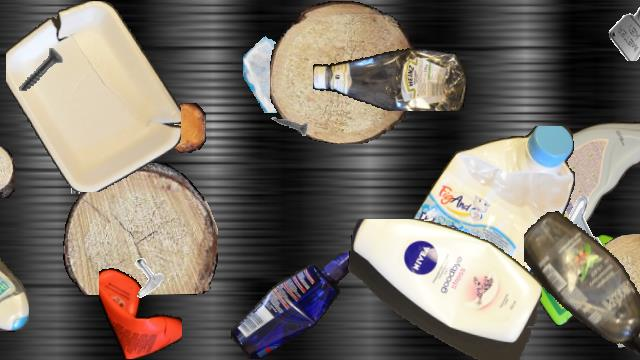glass: (243, 29, 327, 113), (411, 199, 473, 261), (613, 291, 640, 347)
metal: (9, 39, 71, 101), (557, 194, 619, 256), (63, 147, 109, 193), (607, 1, 640, 61), (123, 256, 167, 300), (268, 106, 308, 146)
plastic: (392, 126, 578, 332), (6, 1, 180, 191), (346, 219, 542, 359), (504, 114, 640, 242), (524, 209, 640, 359), (230, 253, 360, 359), (313, 43, 467, 111), (530, 234, 640, 326), (99, 265, 181, 359), (0, 220, 28, 332)
wood: (270, 1, 414, 143), (63, 163, 217, 295), (46, 93, 138, 169), (587, 234, 640, 322), (163, 103, 205, 153), (0, 146, 14, 198)
